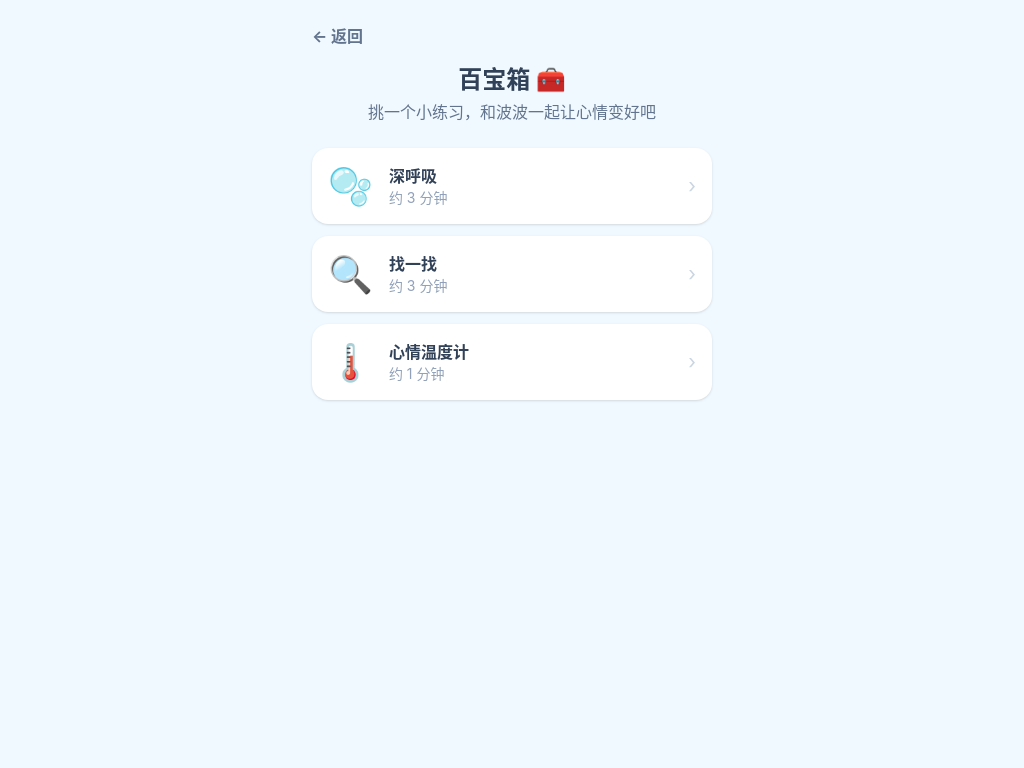
Test: ToolboxPanel › 点击工具卡片进入练习界面
This screenshot has width=1024, height=768.
Click the text "深呼吸".
click(413, 176)  # box [389, 166, 437, 186]
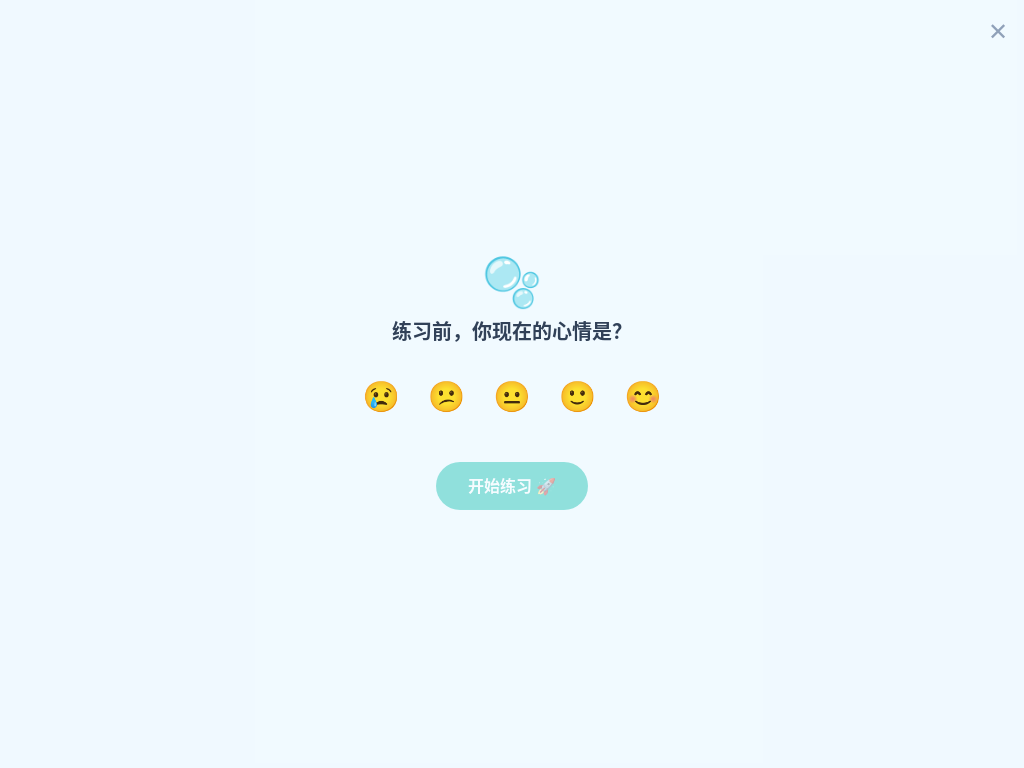
Expected: the heading "练习前，你现在的心情是？" is shown, [392, 320, 632, 344]
Note: 练习中关闭 → 回到工具清单
Click the button "✕".
click(998, 32)  # box [988, 16, 1008, 48]
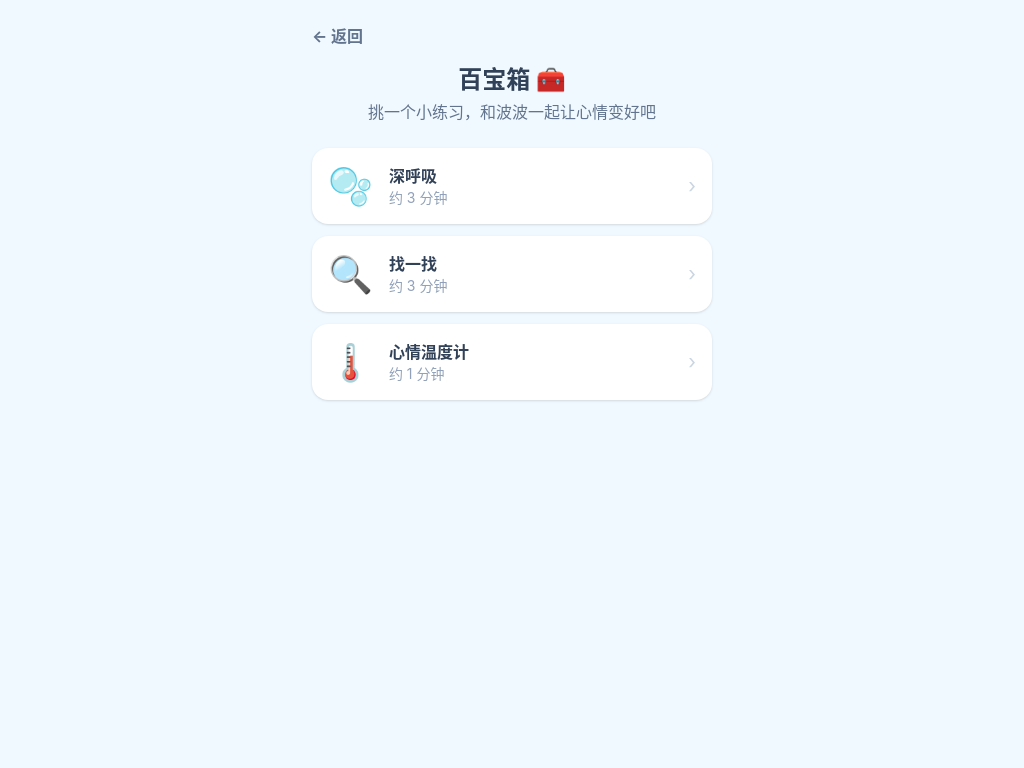
Expected: the text "找一找" is shown, [389, 254, 437, 274]
